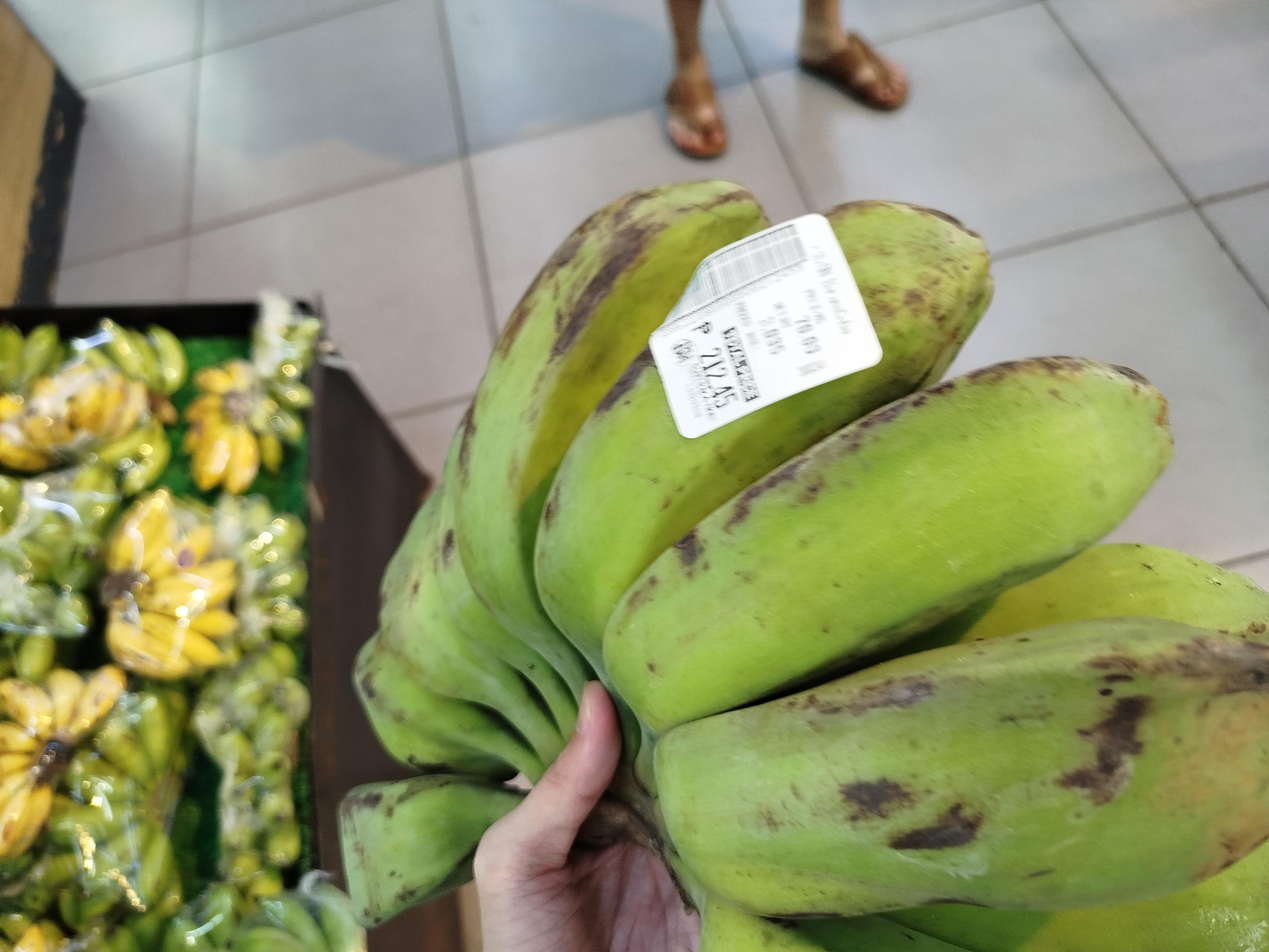underripe: (339, 182, 1269, 949)
